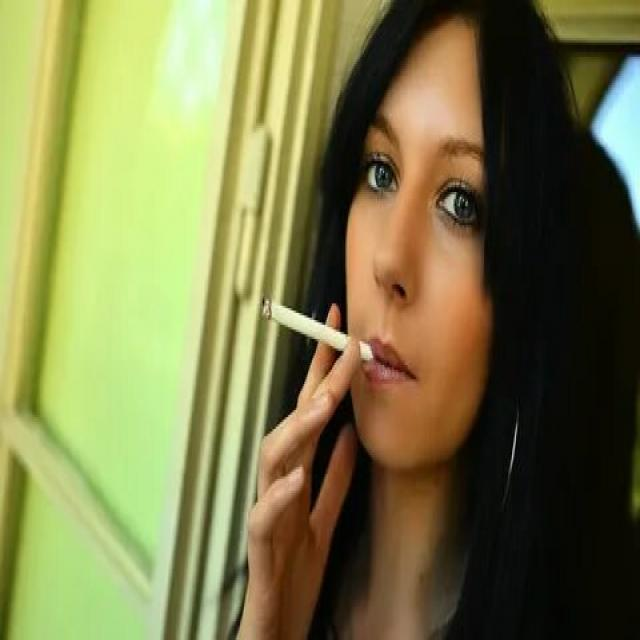smoke: (260, 289, 376, 372)
